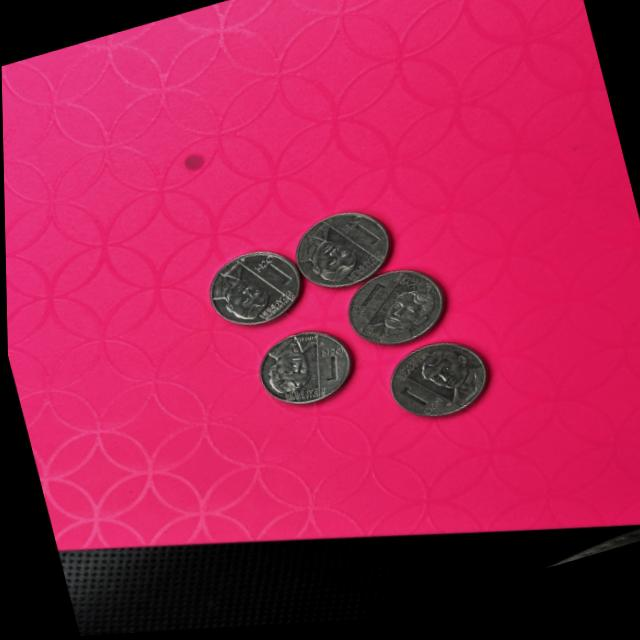1_New_Front: (344, 280, 404, 330), (386, 380, 439, 430), (307, 345, 351, 398), (253, 247, 289, 296), (343, 214, 380, 258)
